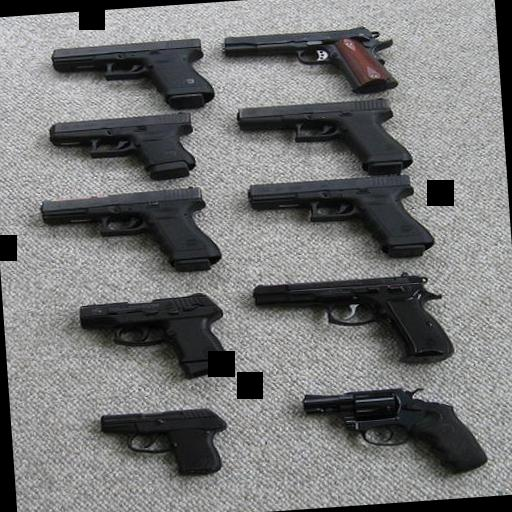Handgun: (246, 266, 454, 372), (298, 379, 486, 483), (244, 168, 434, 268), (72, 288, 230, 384), (94, 404, 231, 482)
